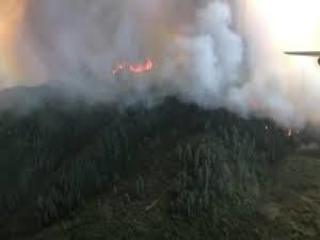fire: (107, 56, 159, 78)
smoke: (5, 4, 317, 120)
